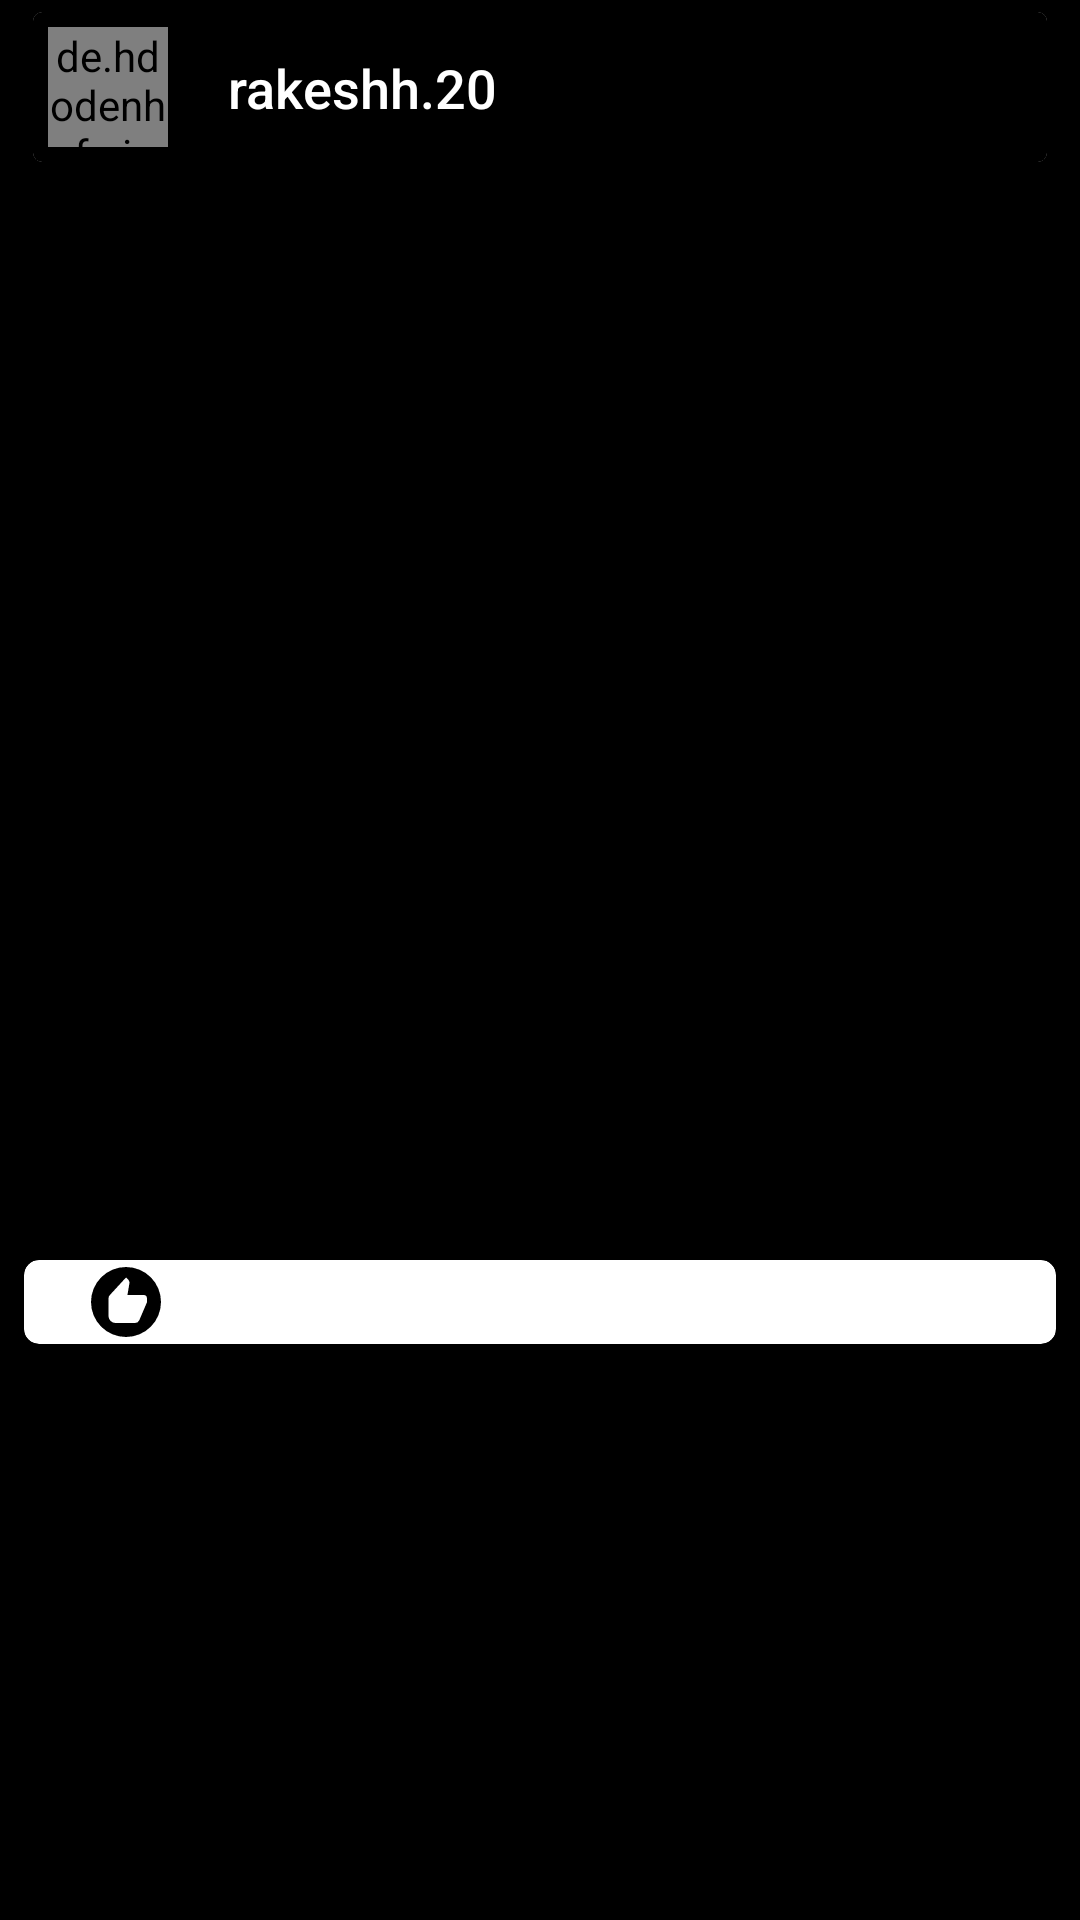

Named icons in this screenshot (1080px×1920px) and their centers, (x,y):
recommend: (126,1302)
